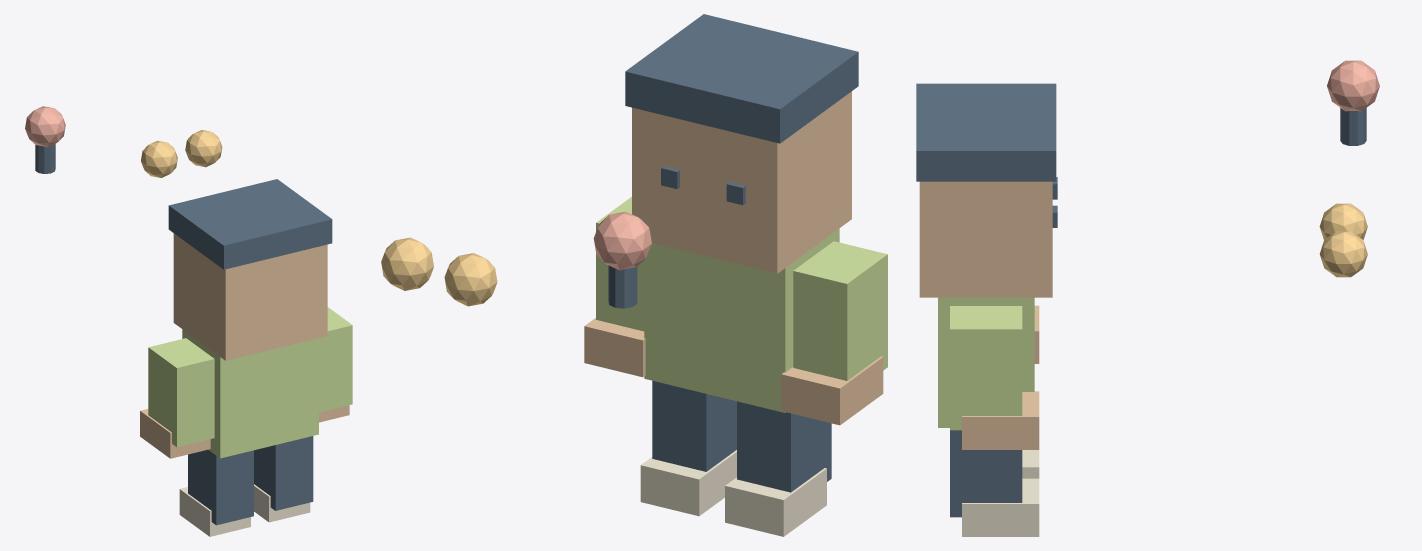
File: arcade.glb
The picture shows the model from 3 angles, left to right: view 1: azimuth 30°, elevation 25°; view 2: azimuth 150°, elevation 25°; view 3: azimuth 270°, elevation 25°; orthographic projection. The views are drawn at different scales.
Visible parts, largest first — view 1: Preview_head, Preview_body, Preview_hair, Preview_RightArm, Preview_RightLeg, Preview_LeftLeg, Preview_LeftArm, Preview_tip.003, Preview_tip.001, Joystick_grip, Arcade_button.001, Arcade_button (+2 smaller); view 2: Preview_head, Preview_body, Preview_hair, Preview_RightArm, Preview_RightLeg, Preview_LeftLeg, Preview_tip.001, Preview_tip.003, Preview_tip.002, Preview_tip, Joystick_grip, Arcade_button (+3 smaller); view 3: Preview_head, Preview_hair, Preview_LeftArm, Preview_LeftLeg, Preview_body, Preview_tip.002, Preview_tip, Joystick_grip, Arcade_button.001, Arcade_button, Joystick_stem.
Boxes of the visible parts, box(x1,y1,x2,y2) form: Preview_head: box(173, 233, 327, 360); Preview_body: box(182, 329, 318, 458); Preview_hair: box(168, 179, 332, 269); Preview_RightArm: box(148, 338, 214, 446); Preview_RightLeg: box(188, 449, 253, 525); Preview_LeftLeg: box(254, 436, 313, 510); Preview_LeftArm: box(319, 307, 352, 412); Preview_tip.003: box(179, 487, 250, 536); Preview_tip.001: box(140, 409, 210, 458); Joystick_grip: box(25, 106, 65, 147); Arcade_button.001: box(185, 130, 222, 167); Arcade_button: box(141, 140, 177, 177); Preview_head: box(632, 91, 851, 273); Preview_body: box(644, 228, 839, 412); Preview_hair: box(625, 14, 858, 143); Preview_RightArm: box(793, 241, 887, 380); Preview_RightLeg: box(737, 401, 831, 492); Preview_LeftLeg: box(652, 380, 736, 471); Preview_tip.001: box(781, 356, 883, 425); Preview_tip.003: box(725, 468, 826, 536); Preview_tip.002: box(640, 450, 736, 516); Preview_tip: box(584, 318, 645, 377); Joystick_grip: box(593, 211, 651, 270); Arcade_button: box(444, 253, 497, 306); Preview_head: box(919, 181, 1052, 297); Preview_hair: box(916, 83, 1056, 181); Preview_LeftArm: box(950, 306, 1022, 430); Preview_LeftLeg: box(950, 430, 1022, 517); Preview_body: box(938, 297, 1034, 427); Preview_tip.002: box(962, 478, 1039, 536); Preview_tip: box(962, 391, 1039, 449); Joystick_grip: box(1327, 60, 1379, 111); Arcade_button.001: box(1319, 231, 1367, 277); Arcade_button: box(1319, 203, 1367, 239); Joystick_stem: box(1340, 108, 1366, 145).
Bounding box in the file's own units: 1.21 × 2.13 × 2.04.
